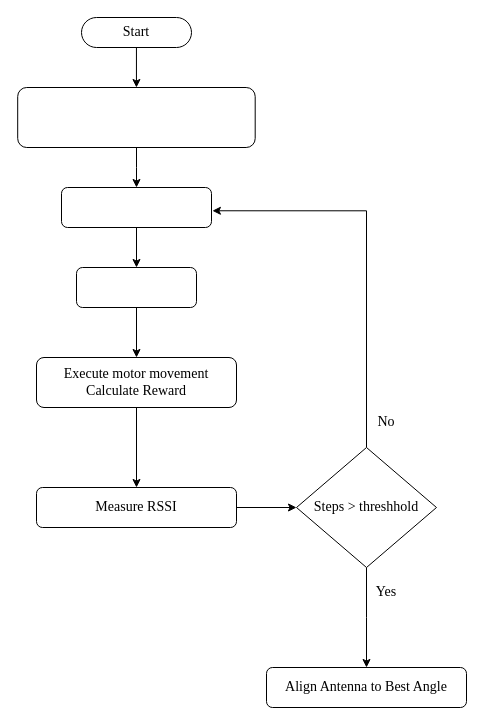
Some shapes in this 484 by 725 pixel diagram are drawn without their labels. The box of each missing label's shape, as (x1, y1, x2, y2) in pixels:
Encode Next State: (60, 186, 212, 228)
Initialize Agent and Environment (Q-Table): (17, 86, 255, 148)
Select action: (76, 266, 196, 308)
